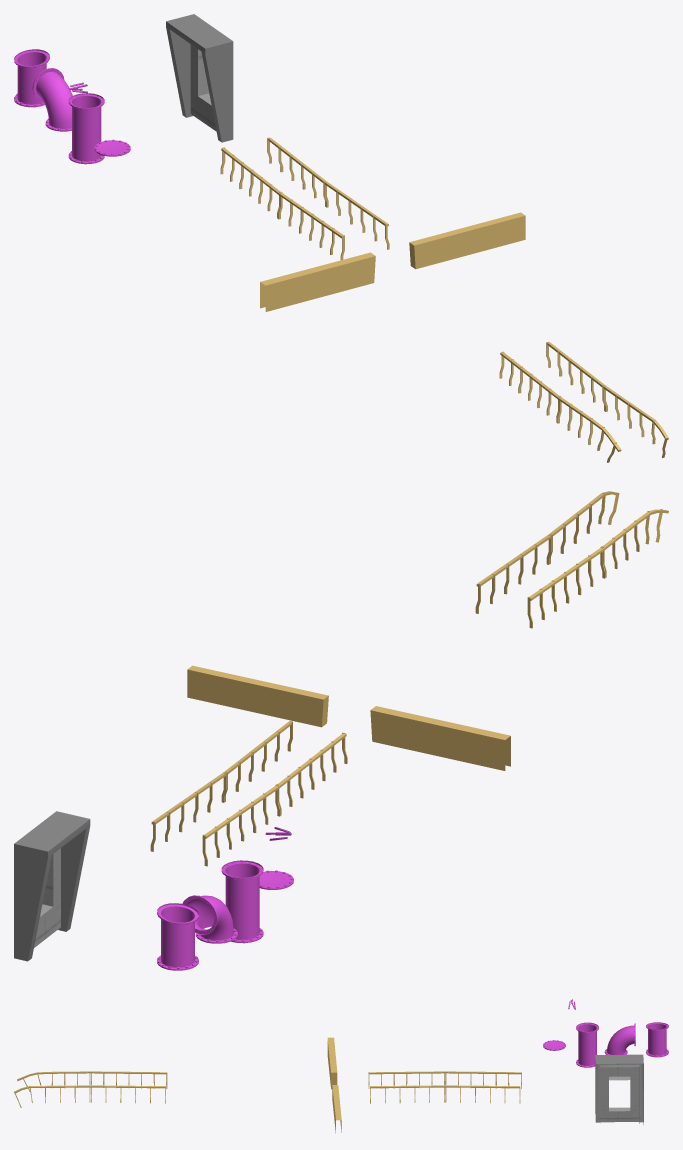
File: TLRNatuurGebiedProps.fbx
3 views of the same model, one above another, from view 1: azimuth 30°, elevation 25°; view 2: azimuth 150°, elevation 25°; view 3: azimuth 270°, elevation 25° (orthographic). The views are drawn at different scales.
Parts seen in each view (by area): view 1: DeurIngang, StoneRandRSide, StoneRandLSide, PipePropRecht, PipePropBochtSmall, RellingRSide, RellingRSideBroke, RellingLSideBroke, RellingLSide, PipePropLightSchuin; view 2: DeurIngang, StoneRandRSide, StoneRandLSide, PipePropRecht, PipePropLightSchuin, RellingRSide, RellingRSideBroke, RellingLSideBroke, RellingLSide, PipePropBochtSmall; view 3: DeurIngang, PipePropRecht, PipePropLightSchuin, RellingLSide, RellingRSide, RellingLSideBroke, RellingRSideBroke, PipePropBochtSmall, StoneRandRSide, StoneRandLSide.
Boxes of the visible parts, <box> form: DeurIngang: <box>166,14,233,142</box>; StoneRandRSide: <box>260,252,375,311</box>; StoneRandLSide: <box>409,212,525,269</box>; PipePropRecht: <box>68,93,104,164</box>; PipePropBochtSmall: <box>32,68,72,131</box>; RellingRSide: <box>220,147,344,260</box>; RellingRSideBroke: <box>499,351,621,462</box>; RellingLSideBroke: <box>546,341,668,457</box>; RellingLSide: <box>267,137,389,249</box>; PipePropLightSchuin: <box>14,49,49,107</box>; DeurIngang: <box>14,811,90,961</box>; StoneRandRSide: <box>370,706,510,770</box>; StoneRandLSide: <box>187,665,328,727</box>; PipePropRecht: <box>221,860,263,943</box>; PipePropLightSchuin: <box>157,903,198,970</box>; RellingRSide: <box>202,732,347,866</box>; RellingRSideBroke: <box>527,509,668,628</box>; RellingLSideBroke: <box>475,491,619,613</box>; RellingLSide: <box>150,721,292,851</box>; PipePropBochtSmall: <box>182,895,237,943</box>; DeurIngang: <box>595,1054,643,1124</box>; PipePropRecht: <box>576,1022,598,1067</box>; PipePropLightSchuin: <box>646,1022,668,1057</box>; RellingLSide: <box>370,1085,520,1103</box>; RellingRSide: <box>368,1071,521,1088</box>; RellingLSideBroke: <box>14,1085,165,1107</box>; RellingRSideBroke: <box>17,1071,167,1091</box>; PipePropBochtSmall: <box>604,1023,635,1054</box>; StoneRandRSide: <box>327,1037,337,1089</box>; StoneRandLSide: <box>332,1085,341,1133</box>.
Bounding box in the file's own units: 1151 × 458 × 3819.
